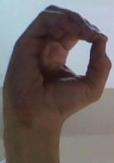O: (0, 0, 114, 119)
